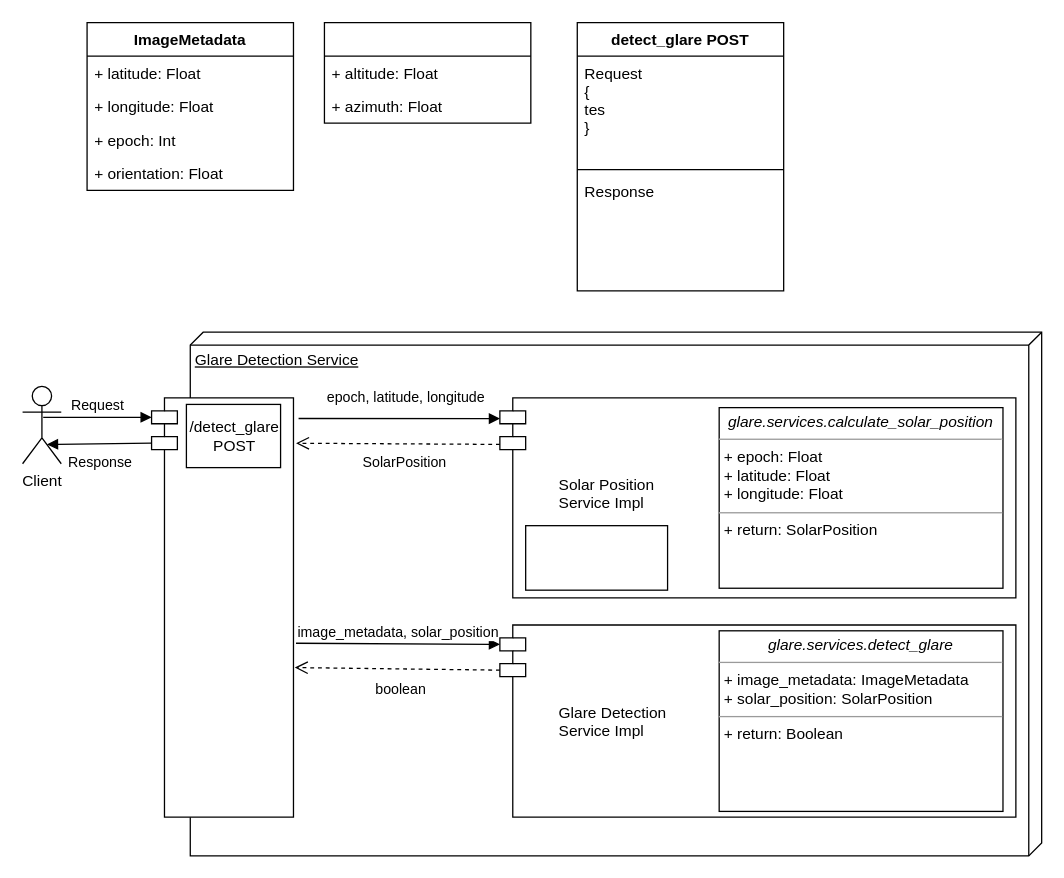
Image size: 1064x878. Some labels were removed from this diagram. Here are the shapes that lost their labels. From the top down, the box of each, then its label:
(323, 21, 531, 123): SunPosition
(524, 524, 668, 590): Object
(150, 397, 293, 817): detect_glare REST API
